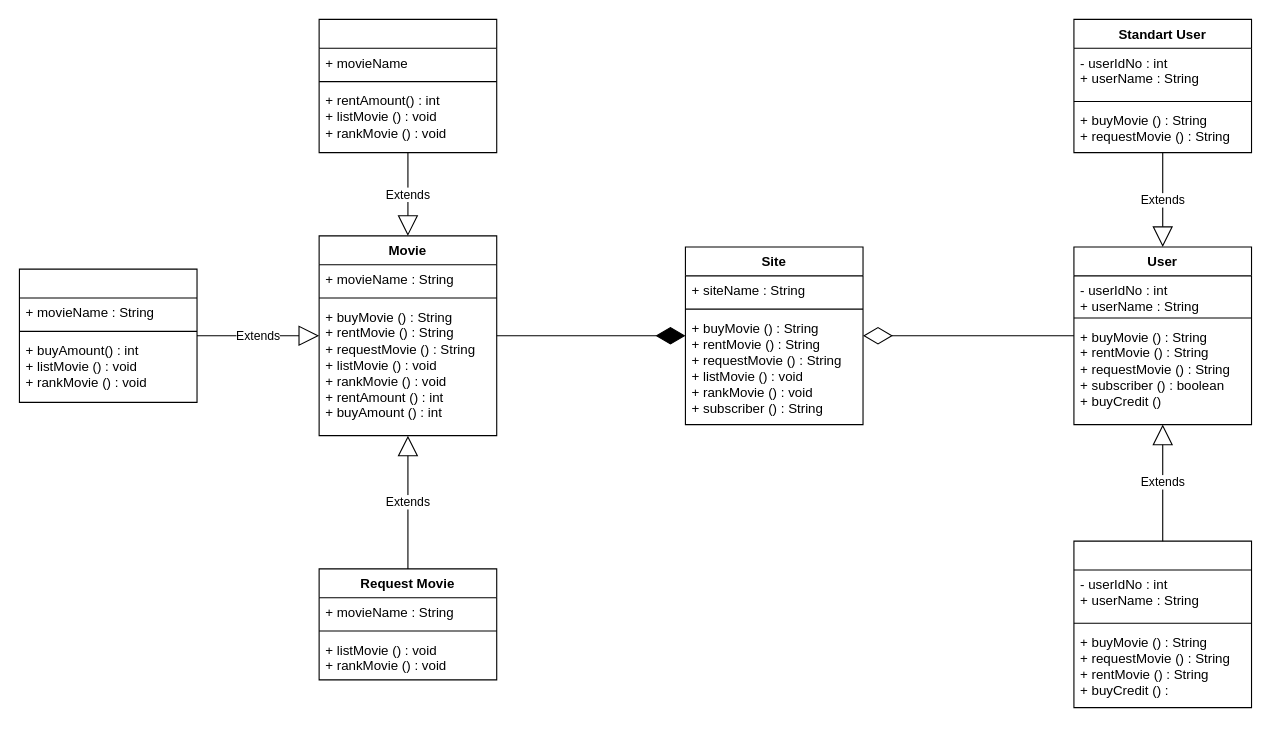
This 1271x730 diagram has some shape labels left out. The shapes that lost their labels are listed below. From the top down, each one's box as (x1, y1, x2, y2) in pixels, then its label:
(318, 18, 497, 153): Rent Movie
(18, 268, 197, 402): Buy Movie
(1073, 540, 1252, 708): Subscriber
